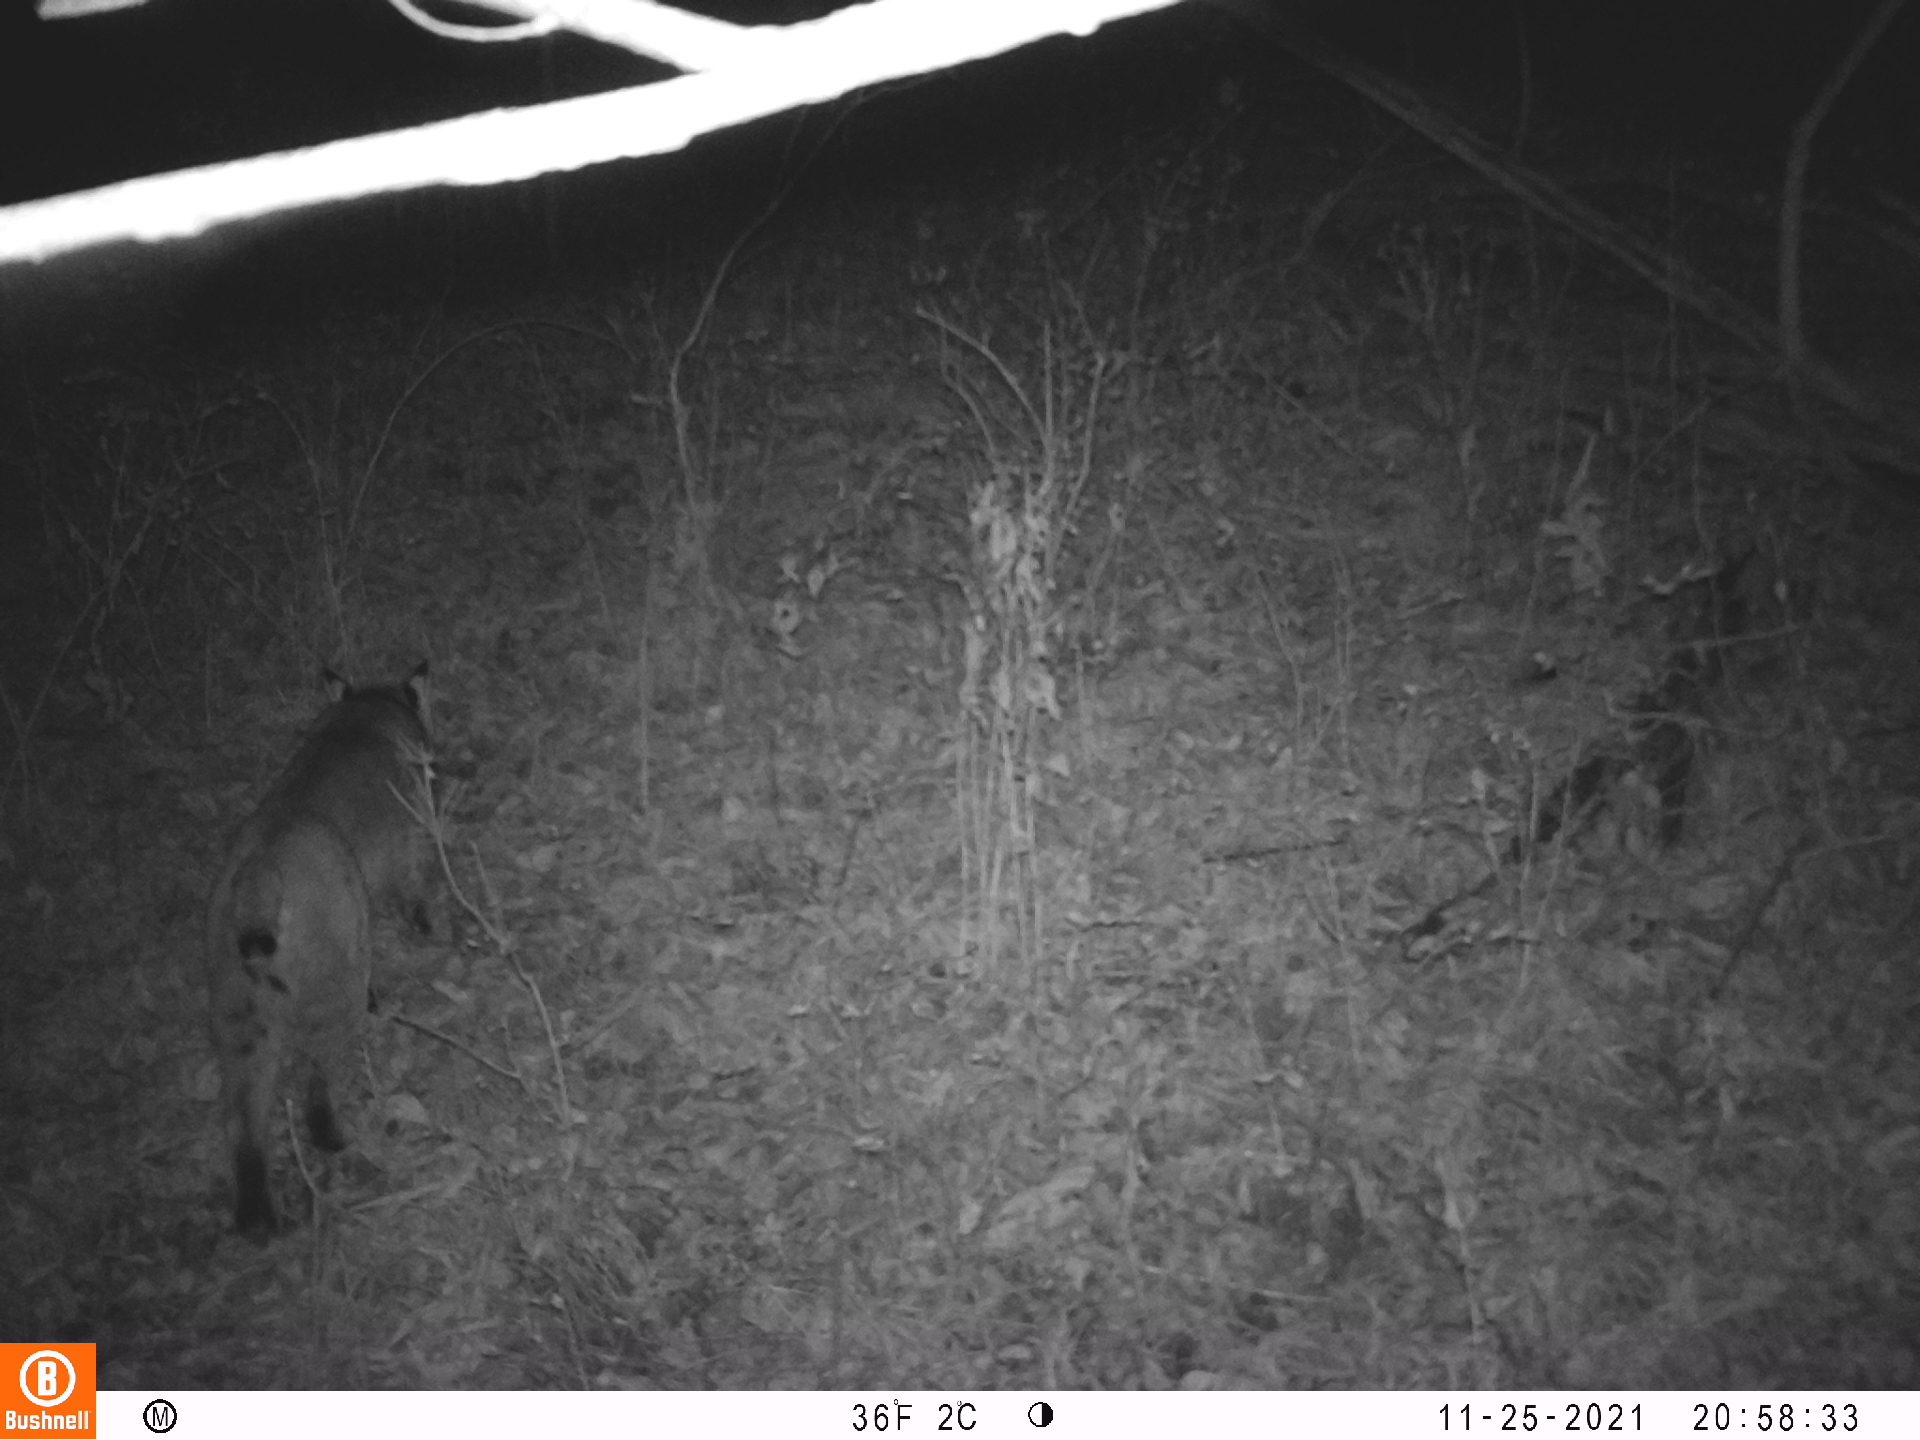Bobcat: (198, 650, 441, 1237)
